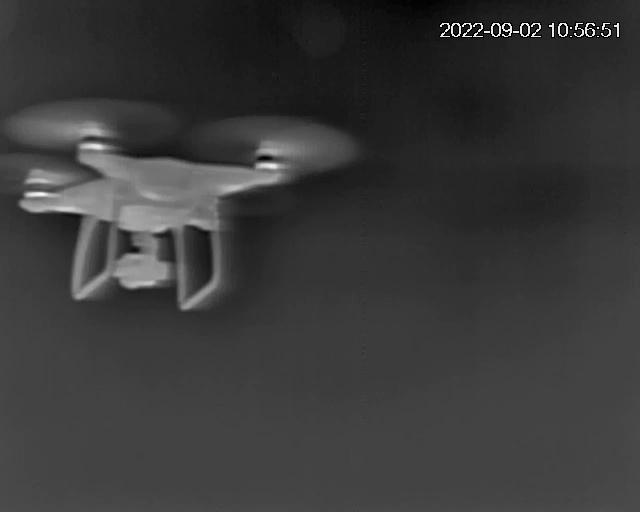DJI-Phantom: (6, 102, 357, 317)
